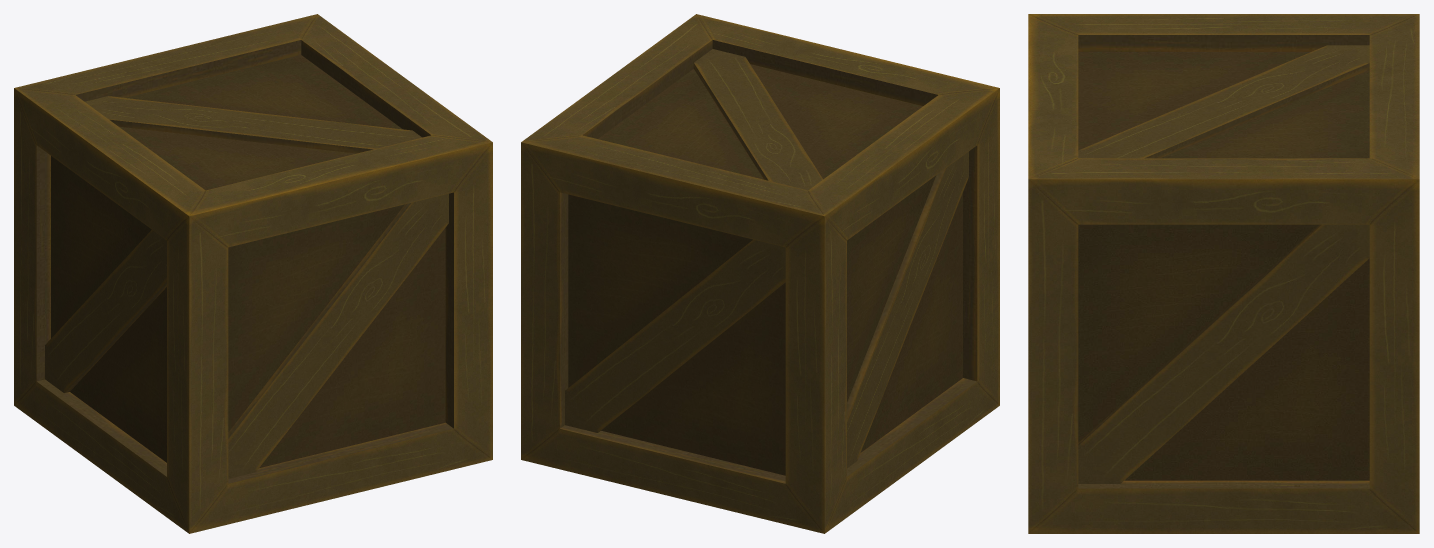
Rendered from crate.glb.
3 renders of one model, left to right at view 1: azimuth 30°, elevation 25°; view 2: azimuth 150°, elevation 25°; view 3: azimuth 270°, elevation 25°, orthographic. The views are drawn at different scales.
Visible parts, largest first — view 1: Cube; view 2: Cube; view 3: Cube.
Part boxes in pixels (left/top/right/bottom): Cube: left=14, top=14, right=492, bottom=533; Cube: left=521, top=14, right=999, bottom=533; Cube: left=1028, top=14, right=1419, bottom=533.
Bounding box in the file's own units: 2 × 2 × 2.
1 material, 1 textured.
